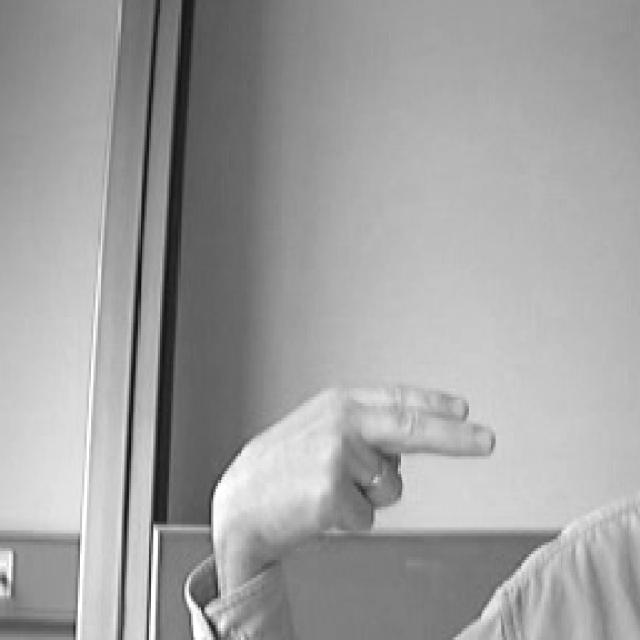H: (205, 368, 501, 545)
